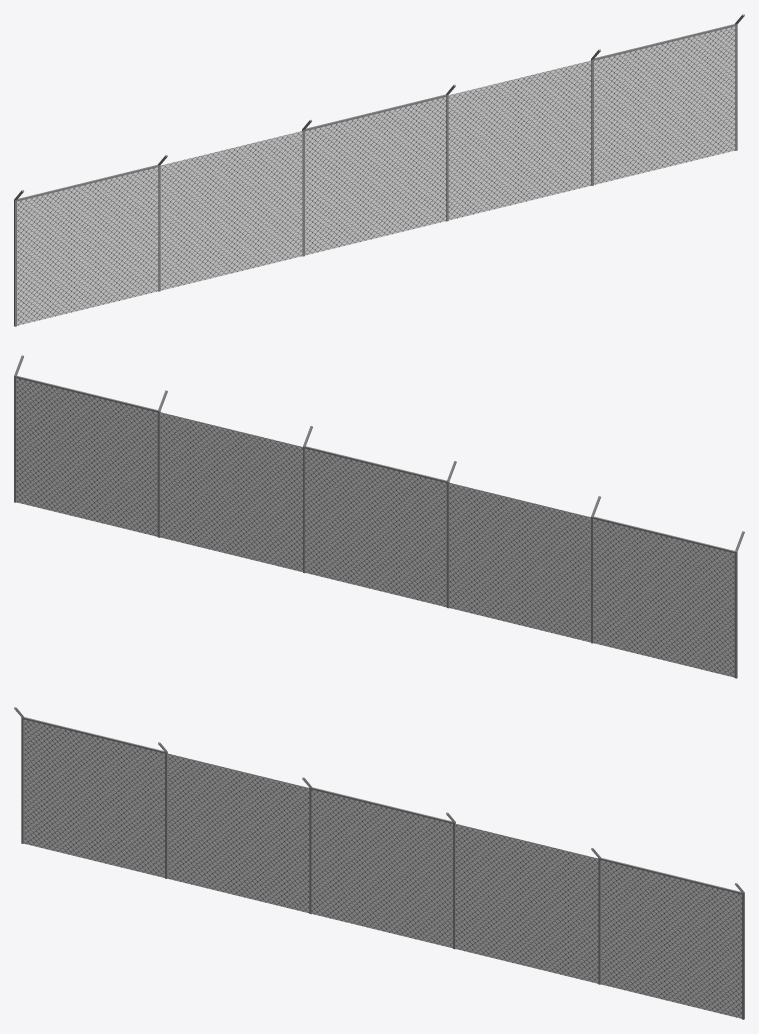
Rendered from fence.FBX.
3 renders of one model, top to bottom at view 1: azimuth 30°, elevation 25°; view 2: azimuth 150°, elevation 25°; view 3: azimuth 330°, elevation 25°, orthographic.
Parts seen in each view (by area): view 1: fence04, fence_pole; view 2: fence04, fence_pole; view 3: fence04, fence_pole.
Part boxes in pixels (box(x1,y1,x2,y2)): fence04: box(17, 26, 735, 325); fence_pole: box(14, 14, 744, 326); fence04: box(16, 378, 734, 677); fence_pole: box(14, 355, 744, 678); fence04: box(23, 719, 741, 1018); fence_pole: box(14, 707, 744, 1019).
Bounding box in the file's own units: 302 × 56.4 × 6.06.
